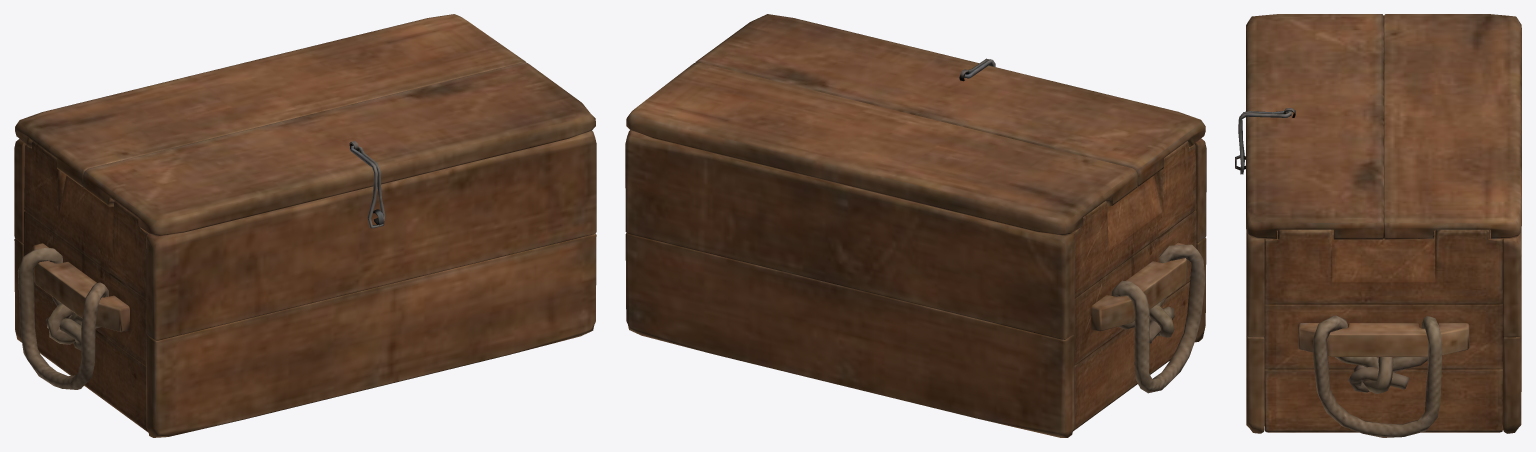
Rendered from wooden_crate_01.gltf.
3 views of the same model, side by side, from view 1: azimuth 30°, elevation 25°; view 2: azimuth 150°, elevation 25°; view 3: azimuth 270°, elevation 25° (orthographic). The views are drawn at different scales.
Size of the model in its own units: 0.8245 by 0.3495 by 0.4077.
1 material, 1 textured.
